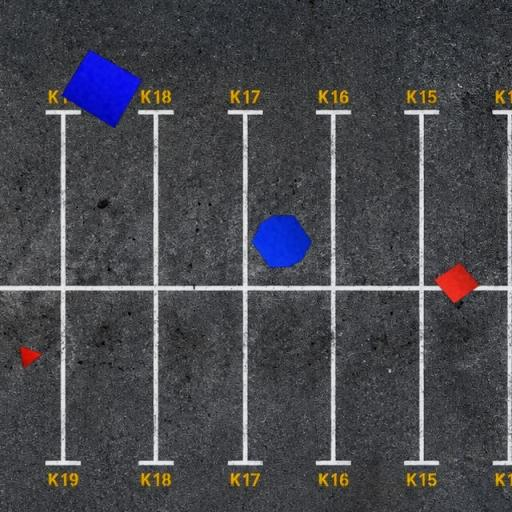BLUE_SQUARE: (60, 49, 143, 129)
RED_SQUARE: (434, 262, 480, 304)
